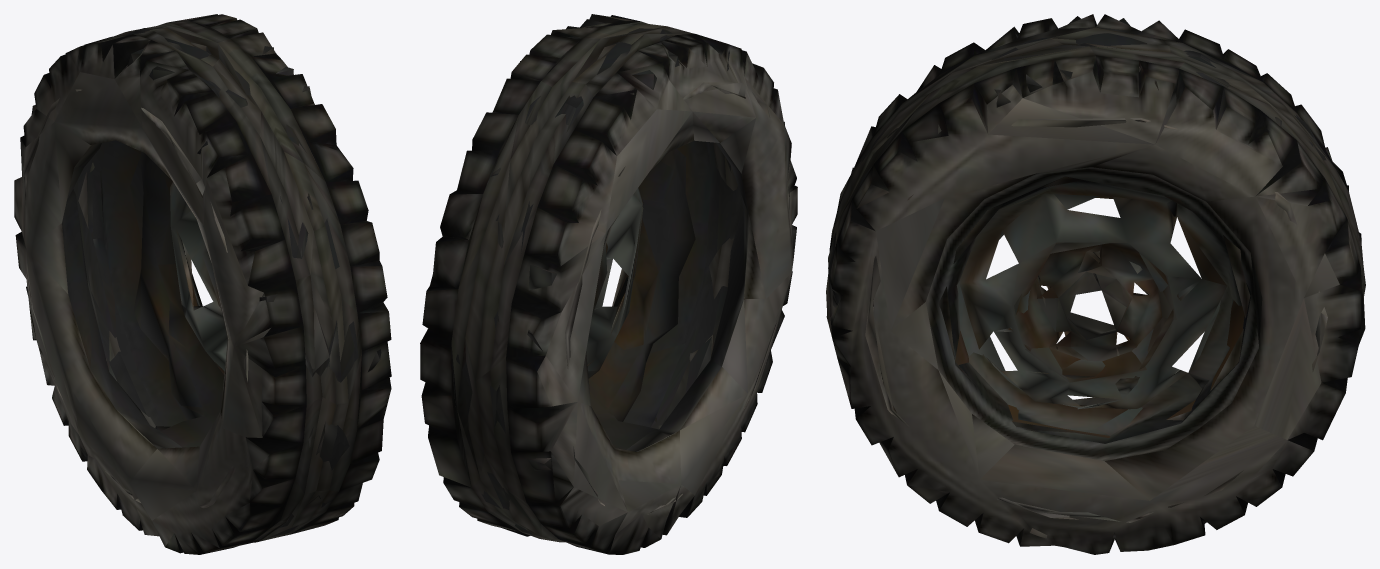
File: urman-wheel.glb
3 views of the same model, side by side, from view 1: azimuth 30°, elevation 25°; view 2: azimuth 150°, elevation 25°; view 3: azimuth 270°, elevation 25° (orthographic).
Visible parts, largest first — view 1: Wheel; view 2: Wheel; view 3: Wheel.
Boxes of the visible parts, x1,y1,x2,y2 form: Wheel: (14,14,391,554); Wheel: (420,14,797,554); Wheel: (826,14,1365,554).
Bounding box in the file's own units: 0.239 × 0.7436 × 0.746.
Materials: 1 (1 with a texture image).
